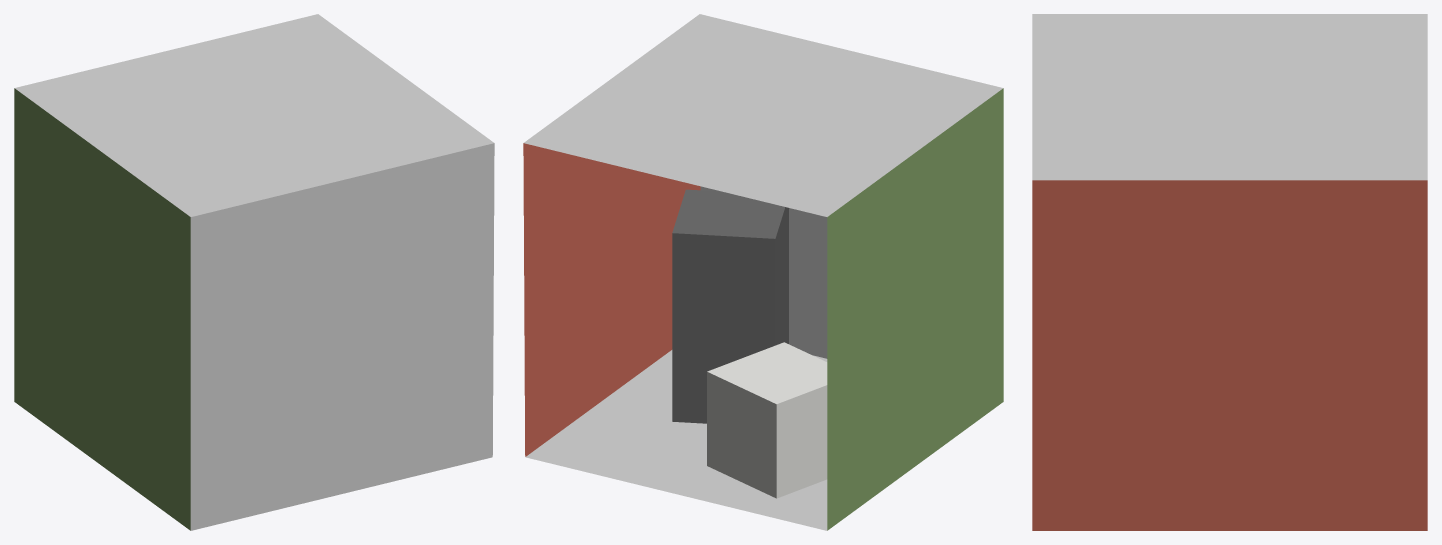
Rendered from cornell_box.gltf.
3 views of the same model, side by side, from view 1: azimuth 30°, elevation 25°; view 2: azimuth 150°, elevation 25°; view 3: azimuth 270°, elevation 25° (orthographic). The views are drawn at different scales.
Bounding box in the file's own units: 556 × 549 × 559.
